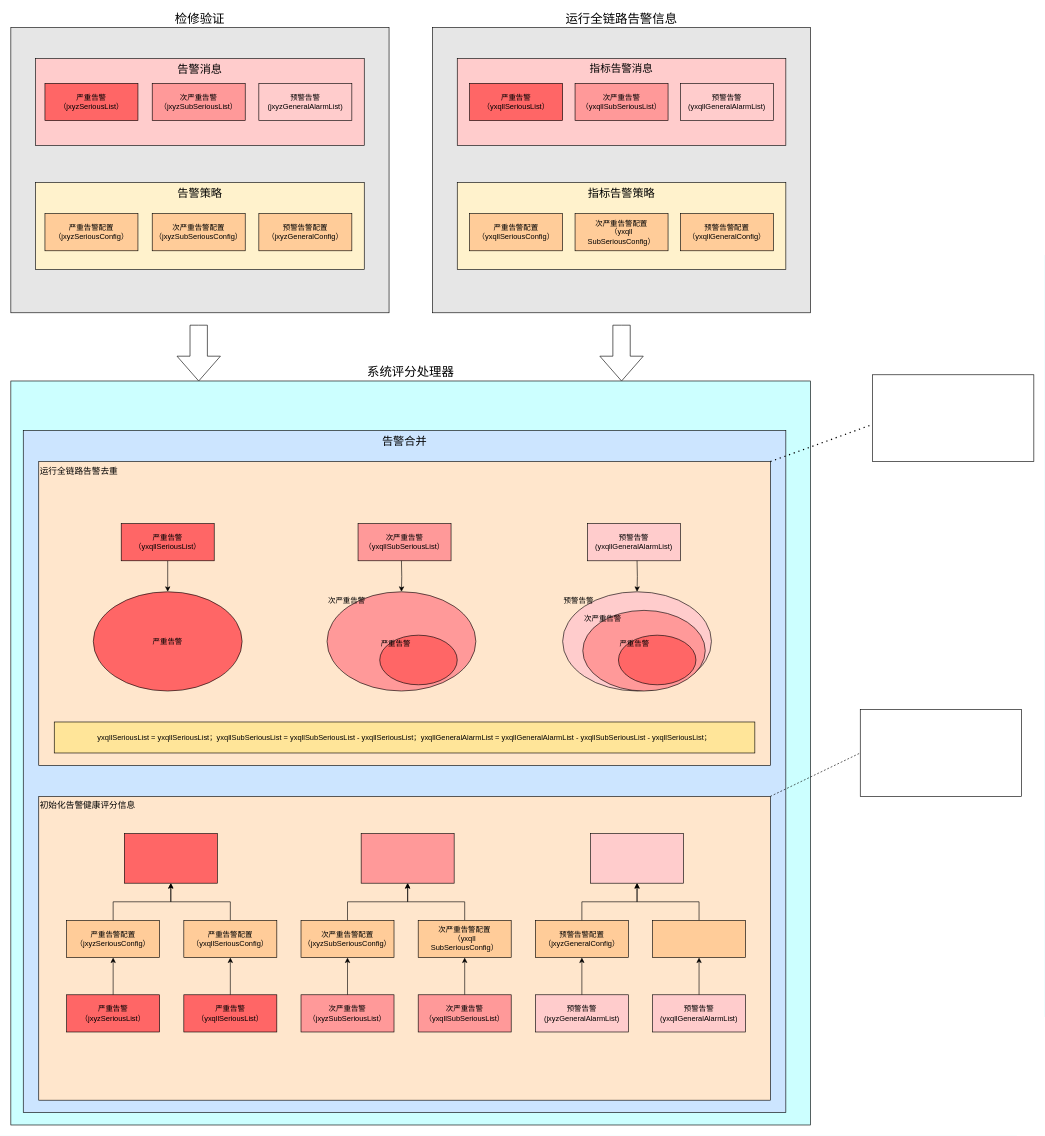
Some shapes in this 1045 by 1136 pixel diagram are drawn without their labels. Each missing label, with the centre of its shape:
"严重告警健康评分信息 （sDetail）" goes at [170,858].
"告警配置与告警消息合并生成健康评分基础信息实例，如对应告警配置指标已产生告警，则告警配置不生成健康评分基础信息实例。" goes at [940,752].
"在全链路告警配置策略中可能存在一个指标配置多个不用的告警级别策略，在评分时在同系统，同指标，同资源被认为同一告警，相同的告警采用严重级别最高的告警进行评分计算。" goes at [953,418].
"次严重告警健康评分信息 （subDetail）" goes at [407,858].
"预警告警健康评分信息 （gDetail）" goes at [637,858].
"预警告警配置 （yxqll GeneralConfig）" goes at [699,939].
